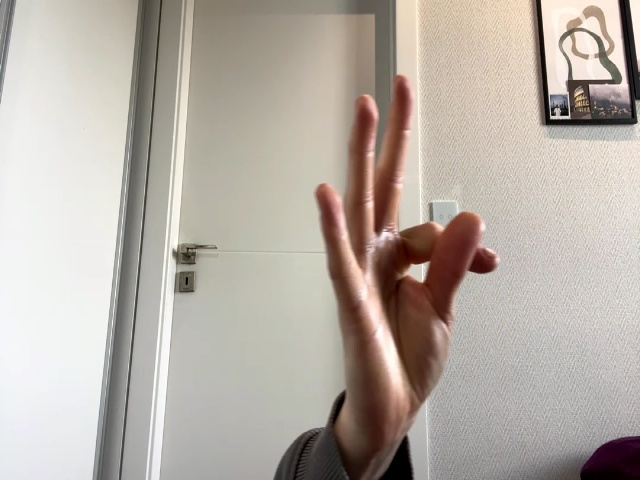T: (315, 75, 500, 422)
